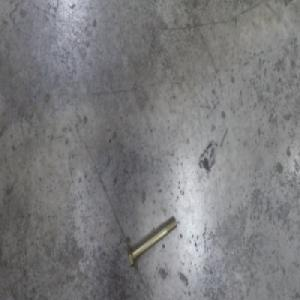Bolt: (126, 215, 175, 272)
